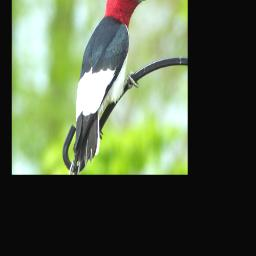Woodpecker: (66, 0, 157, 174)
